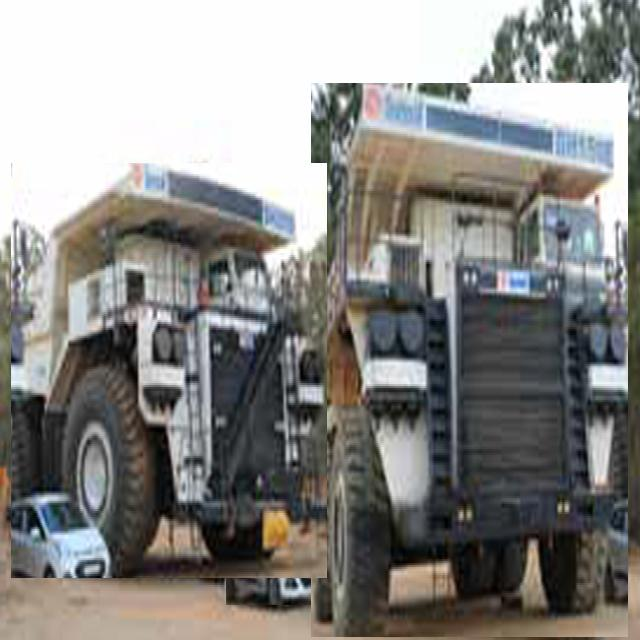car: (226, 495, 334, 605)
truck: (311, 83, 628, 637), (11, 164, 326, 578)
